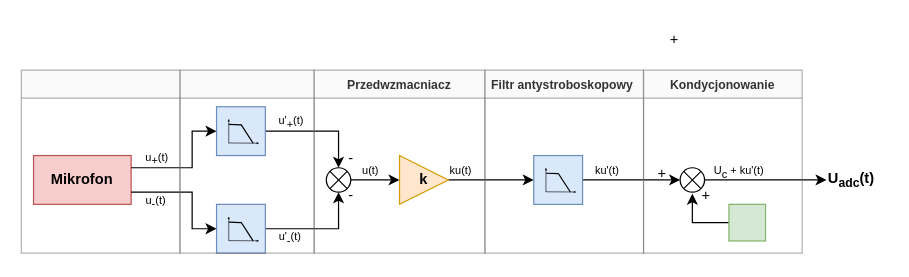
This 909x277 diagram has some shape labels left out. The shapes that lost their labels are listed below. From the top down, each one's centre as x and y in pixels, then its label:
At (x=100, y=161): "Wejście zbalansowane".
At (x=246, y=161): "Filtry EMI".
At (x=747, y=222): "U c".
